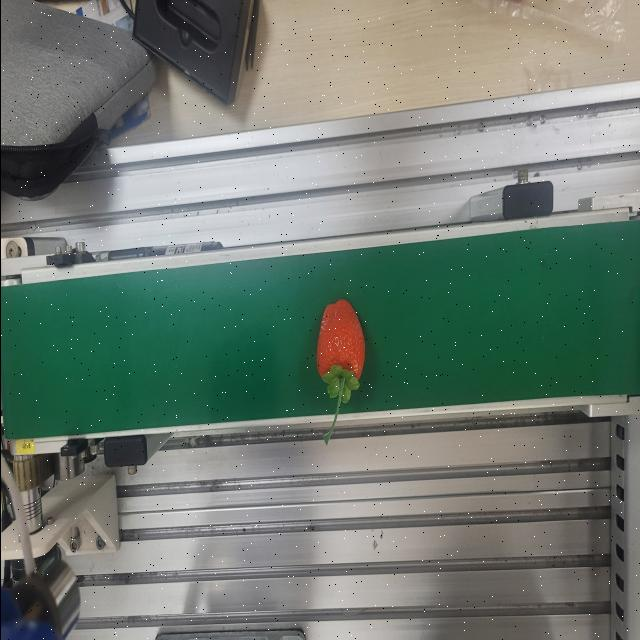Large Ripe Strawberry: (314, 297, 366, 444)
conveyor: (3, 212, 639, 458)
